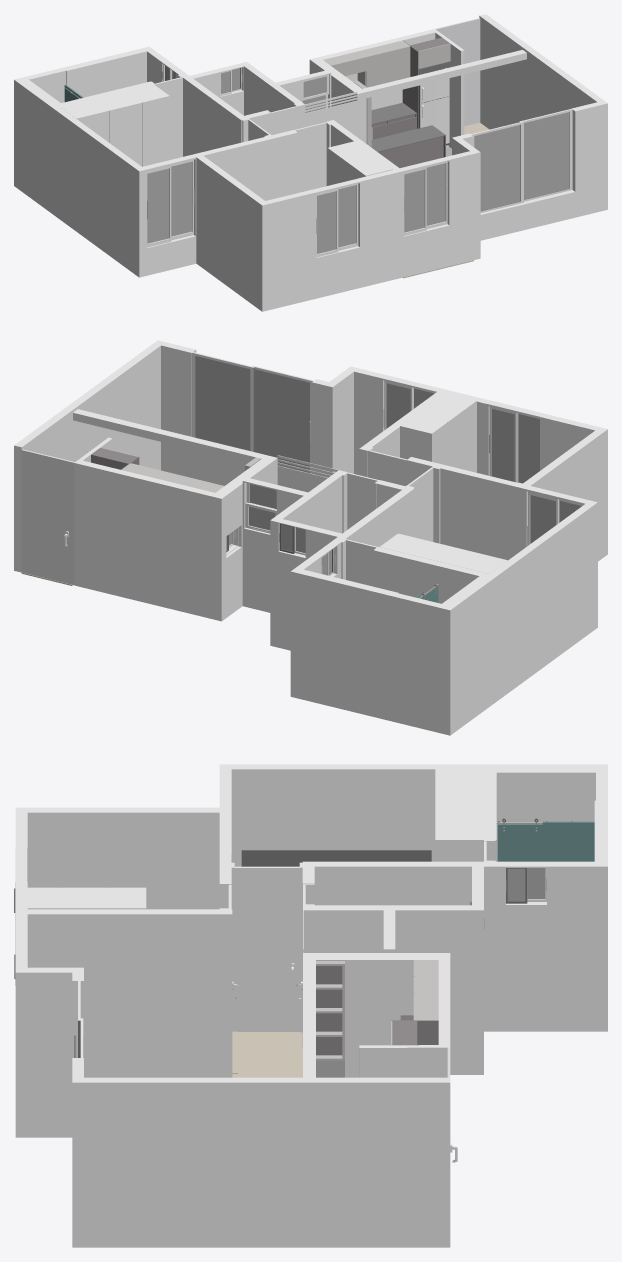
File: jaime_project.glb
3 renders of one model, top to bottom at view 1: azimuth 30°, elevation 25°; view 2: azimuth 150°, elevation 25°; view 3: azimuth 270°, elevation 25°, orthographic. The views are drawn at different scales.
Parts seen in each view (by area): view 1: Group251, Diferencia1, Group170, Group_232_1, Group171, Group258, Diferencia2, Model, Group91, Group167, Group169, Group128 (+34 smaller); view 2: Diferencia1, Group167, Group170, Group251, Group_232_1, Group169, Group171, Diferencia2, Group91, Group58, Group275, Group258 (+22 smaller); view 3: Group170, Diferencia1, Group258, Group251, Group91, Group5, Group171, Group167, Diferencia2, Diferencia, Group269, Group56 (+10 smaller).
Boxes of the visible parts, x1,y1,x2,y2 form: Group251: [193, 130, 315, 311]; Diferencia1: [14, 46, 188, 277]; Group170: [479, 14, 607, 240]; Group_232_1: [471, 108, 572, 212]; Group171: [403, 133, 480, 277]; Group258: [327, 120, 403, 287]; Diferencia2: [183, 69, 269, 156]; Model: [66, 51, 146, 97]; Group91: [240, 62, 305, 128]; Group167: [309, 29, 437, 143]; Group169: [435, 18, 480, 126]; Group128: [294, 122, 326, 192]; Diferencia1: [290, 500, 597, 735]; Group167: [74, 455, 277, 621]; Group170: [14, 340, 247, 572]; Group251: [408, 414, 607, 561]; Group_232_1: [192, 352, 313, 473]; Group169: [21, 449, 74, 584]; Group171: [312, 366, 386, 477]; Diferencia2: [278, 480, 414, 650]; Group91: [270, 470, 346, 647]; Group58: [374, 547, 488, 603]; Group275: [73, 409, 266, 462]; Group258: [359, 388, 491, 476]; Group170: [72, 1058, 450, 1247]; Diferencia1: [219, 764, 607, 1031]; Group258: [15, 882, 232, 1077]; Group251: [15, 807, 231, 909]; Group91: [303, 905, 483, 1074]; Group5: [234, 866, 299, 1031]; Group171: [15, 949, 83, 1137]; Group167: [303, 953, 450, 1077]; Diferencia2: [302, 861, 483, 1047]; Diferencia: [496, 769, 595, 861]; Group269: [436, 769, 483, 840]; Group56: [232, 1032, 302, 1077].
Size of the model in its own units: 9.53 by 2.34 by 7.51.
